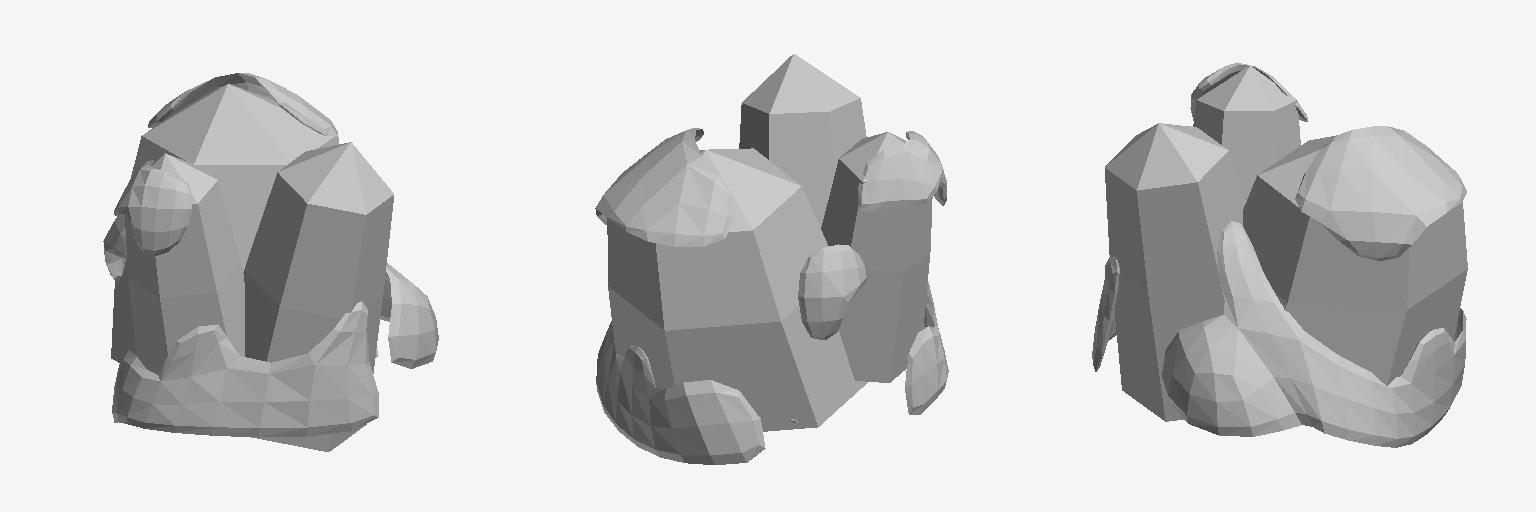
Rendered from ice_rock_2.obj.
3 renders of one model, left to right at view 1: azimuth 30°, elevation 25°; view 2: azimuth 150°, elevation 25°; view 3: azimuth 270°, elevation 25°, orthographic.
Parts seen in each view (by area): view 1: ice_crystal.006_Cube.014, snow.001_Cube.005; view 2: ice_crystal.006_Cube.014, snow.001_Cube.005; view 3: ice_crystal.006_Cube.014, snow.001_Cube.005.
Part boxes in pixels (bbox=[...]): ice_crystal.006_Cube.014: bbox=[111, 84, 393, 451]; snow.001_Cube.005: bbox=[103, 73, 438, 437]; ice_crystal.006_Cube.014: bbox=[607, 54, 932, 431]; snow.001_Cube.005: bbox=[595, 128, 948, 464]; ice_crystal.006_Cube.014: bbox=[1105, 65, 1467, 421]; snow.001_Cube.005: bbox=[1092, 62, 1466, 447].
Bounding box in the file's own units: 4.13 × 3.82 × 4.35.